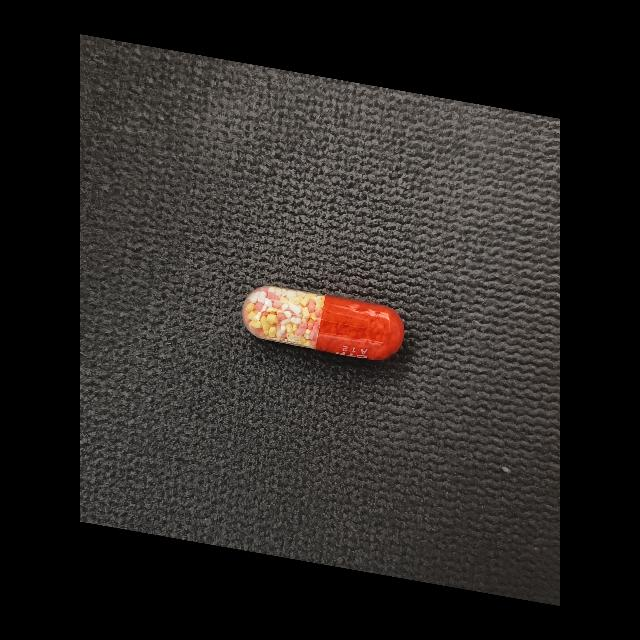Intact Capsule: (242, 286, 404, 360)
